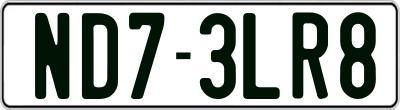3: (200, 13, 240, 104)
7: (128, 13, 169, 103)
8: (338, 12, 377, 102)
D: (80, 12, 118, 100)
L: (241, 10, 284, 97)
N: (34, 10, 70, 97)
R: (291, 9, 332, 99)
